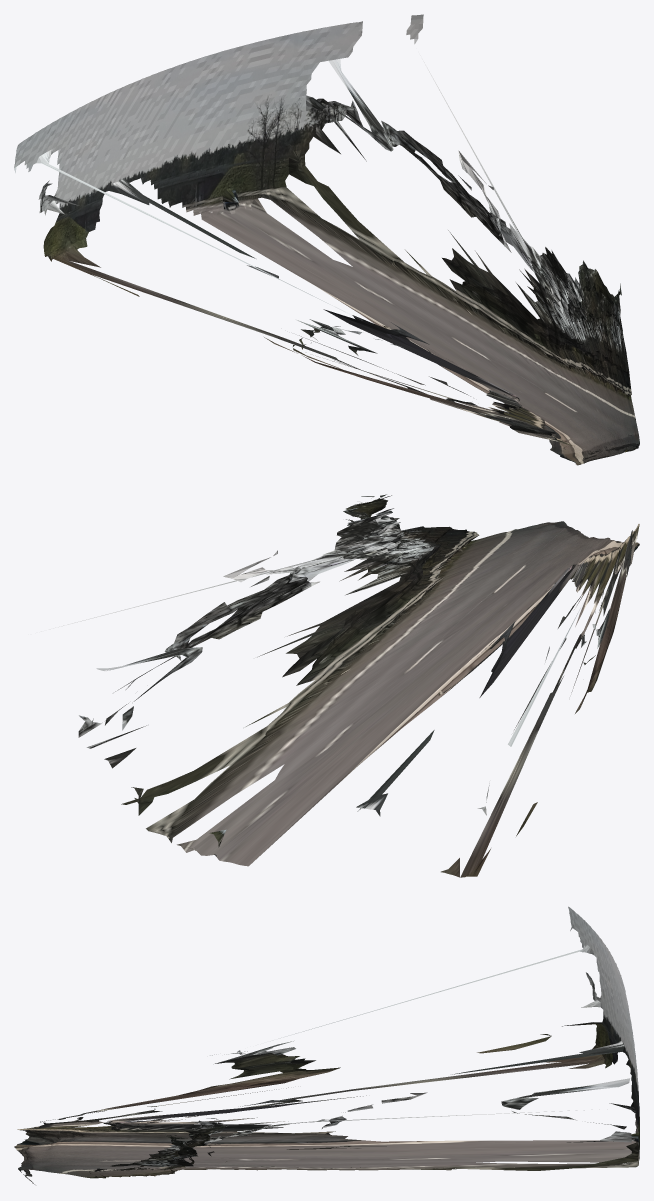
3 views of the same model, one above another, from view 1: azimuth 30°, elevation 25°; view 2: azimuth 150°, elevation 25°; view 3: azimuth 270°, elevation 25° (orthographic). The views are drawn at different scales.
Parts seen in each view (by area): view 1: defaultobject; view 2: defaultobject; view 3: defaultobject.
Part boxes in pixels (<box>): defaultobject: <box>14,14,639,465</box>; defaultobject: <box>41,494,639,877</box>; defaultobject: <box>14,906,639,1184</box>.
Bounding box in the file's own units: 31.46 × 12.03 × 44.71.
Materials: 1 (1 with a texture image).
